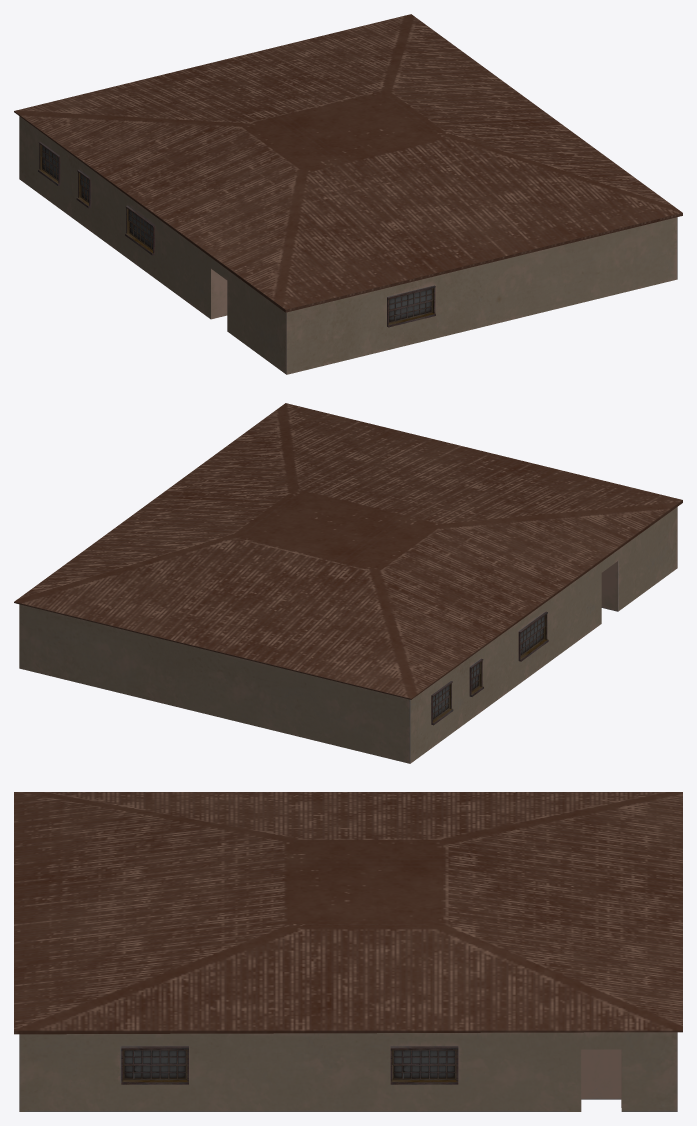
File: neighbor house 1.fbx
3 views of the same model, one above another, from view 1: azimuth 30°, elevation 25°; view 2: azimuth 150°, elevation 25°; view 3: azimuth 270°, elevation 25° (orthographic). The views are drawn at different scales.
Parts seen in each view (by area): view 1: Cube.002; view 2: Cube.002; view 3: Cube.002.
Part boxes in pixels (<box>): Cube.002: <box>14,14,682,374</box>; Cube.002: <box>14,403,682,763</box>; Cube.002: <box>14,792,682,1111</box>.
Bounding box in the file's own units: 1933 × 427 × 2287.
